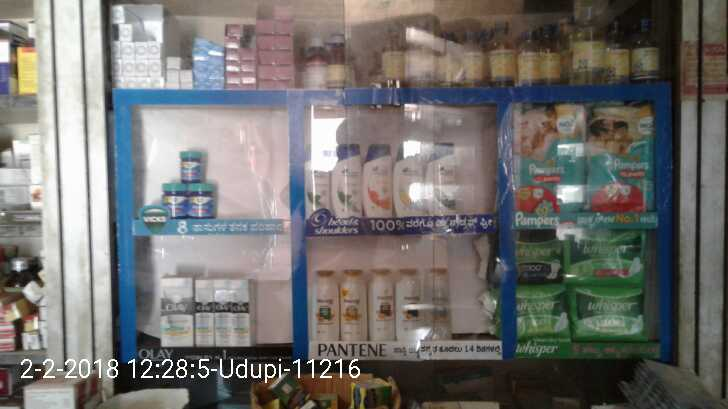beauty: (214, 274, 256, 347), (357, 145, 395, 218), (431, 133, 462, 222), (158, 274, 194, 348), (365, 266, 394, 354), (302, 269, 335, 344), (426, 260, 457, 337), (392, 142, 421, 221), (192, 278, 217, 349), (331, 141, 356, 211), (395, 270, 419, 338), (340, 273, 362, 341)
pharmacy: (519, 99, 586, 219), (588, 104, 646, 221), (552, 224, 642, 285), (567, 286, 650, 340), (516, 286, 567, 338), (516, 230, 556, 280), (180, 181, 221, 223), (174, 145, 210, 180), (158, 183, 187, 214)
